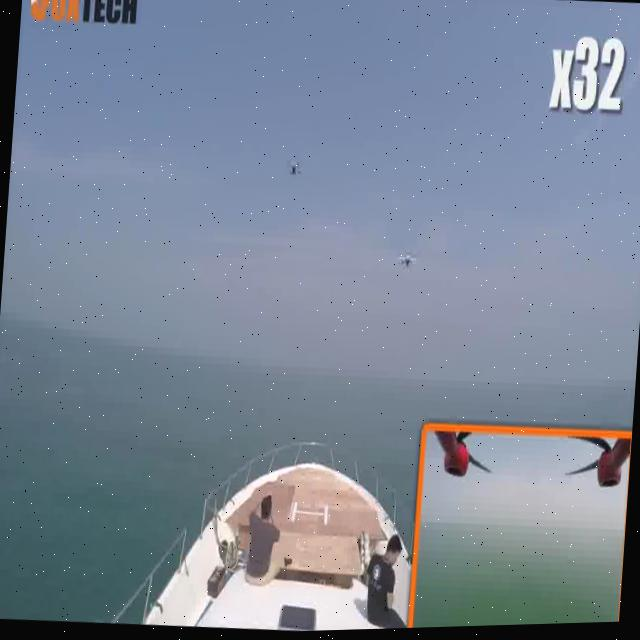drone: (394, 242, 420, 283), (281, 156, 307, 187)
